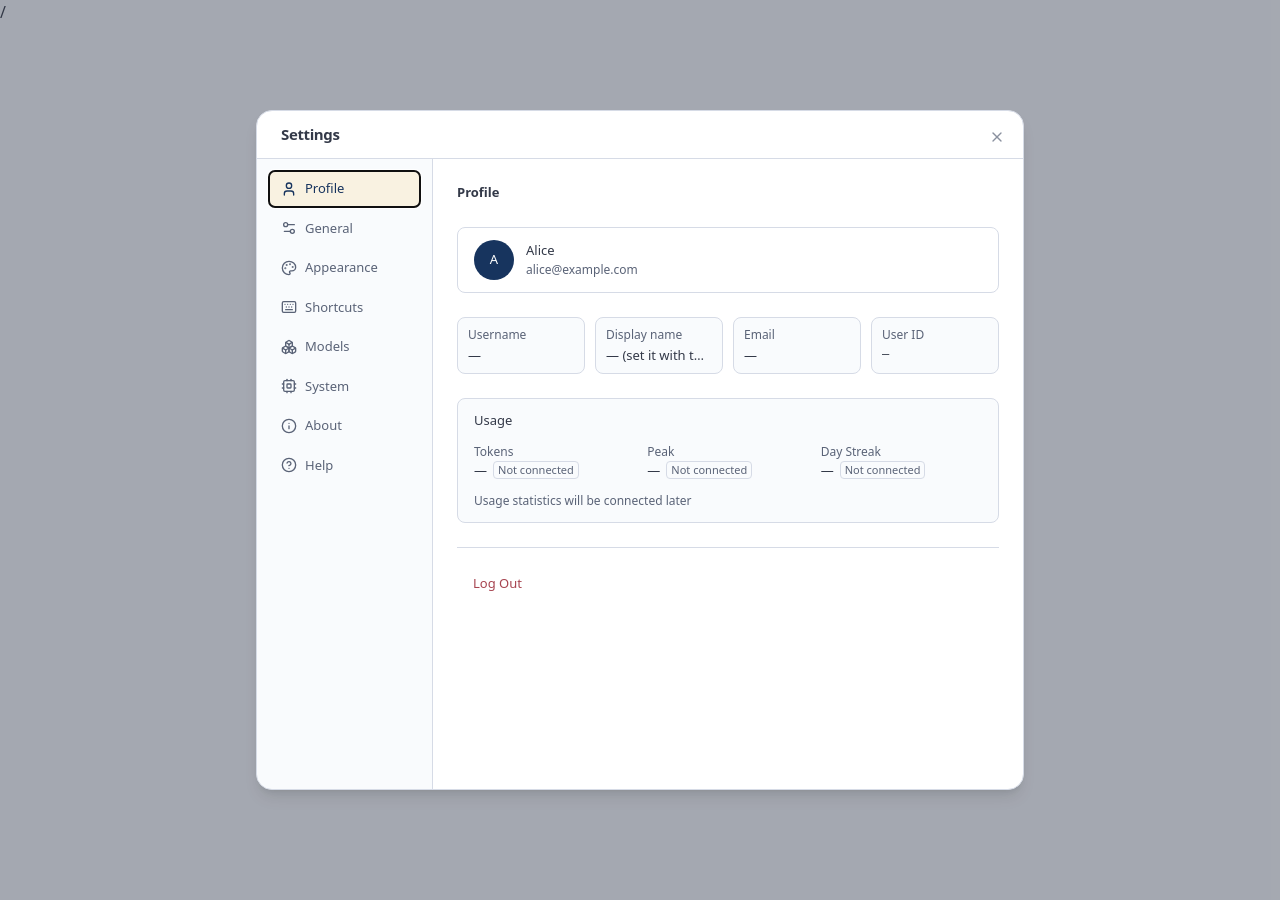
Scenario: SettingsDialog › B-07：点击「添加模型配置」→ 就地打开弹窗，路由不变
The image size is (1280, 900).
Click the button with test id "settings-dialog-nav-models": [344, 347] box x1=269 y1=329 x2=420 y2=364
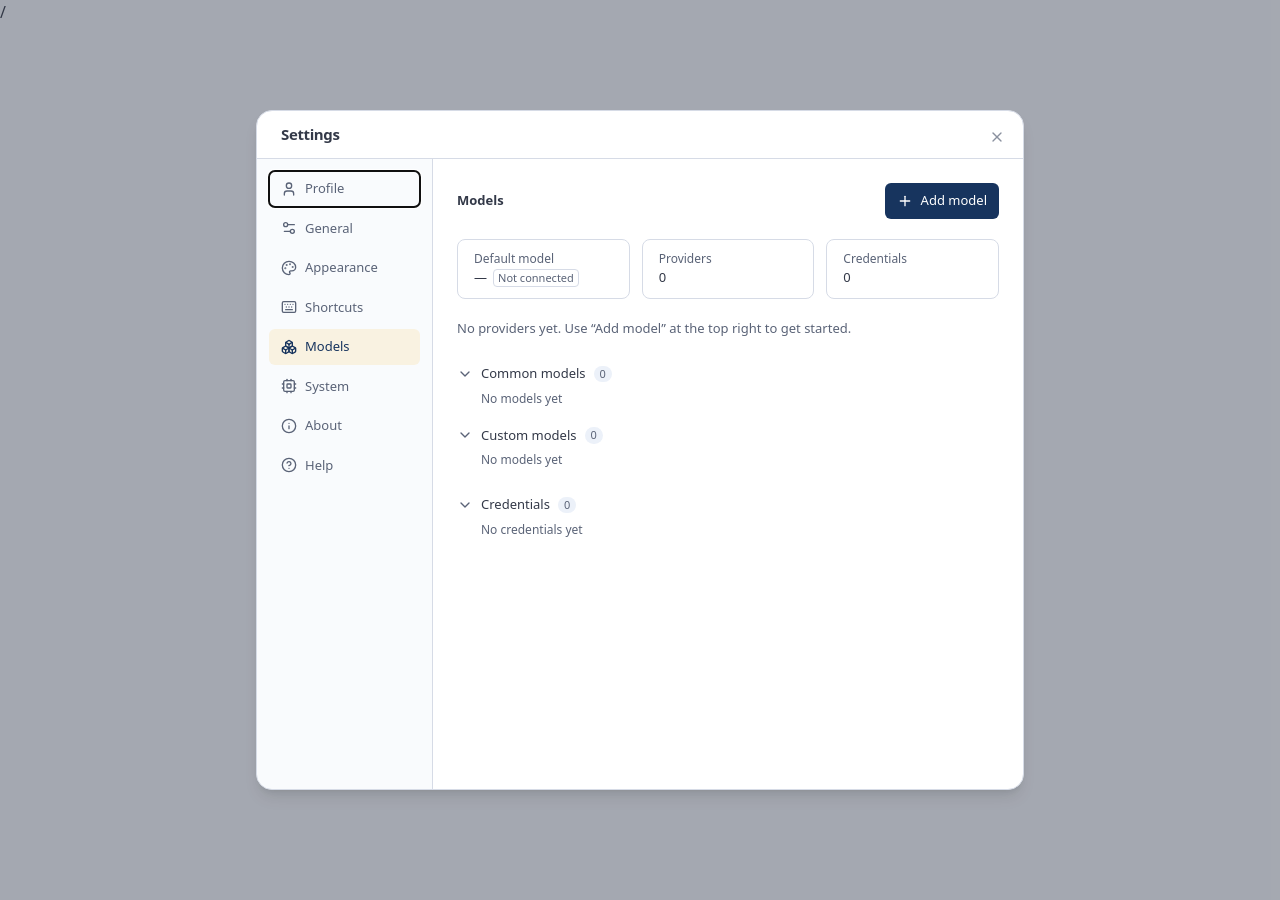
Expected: the text with test id "location-probe" reads "/", x1=0 y1=1 x2=6 y2=23
Click the button with test id "settings-models-add": [942, 201] box x1=885 y1=183 x2=999 y2=219
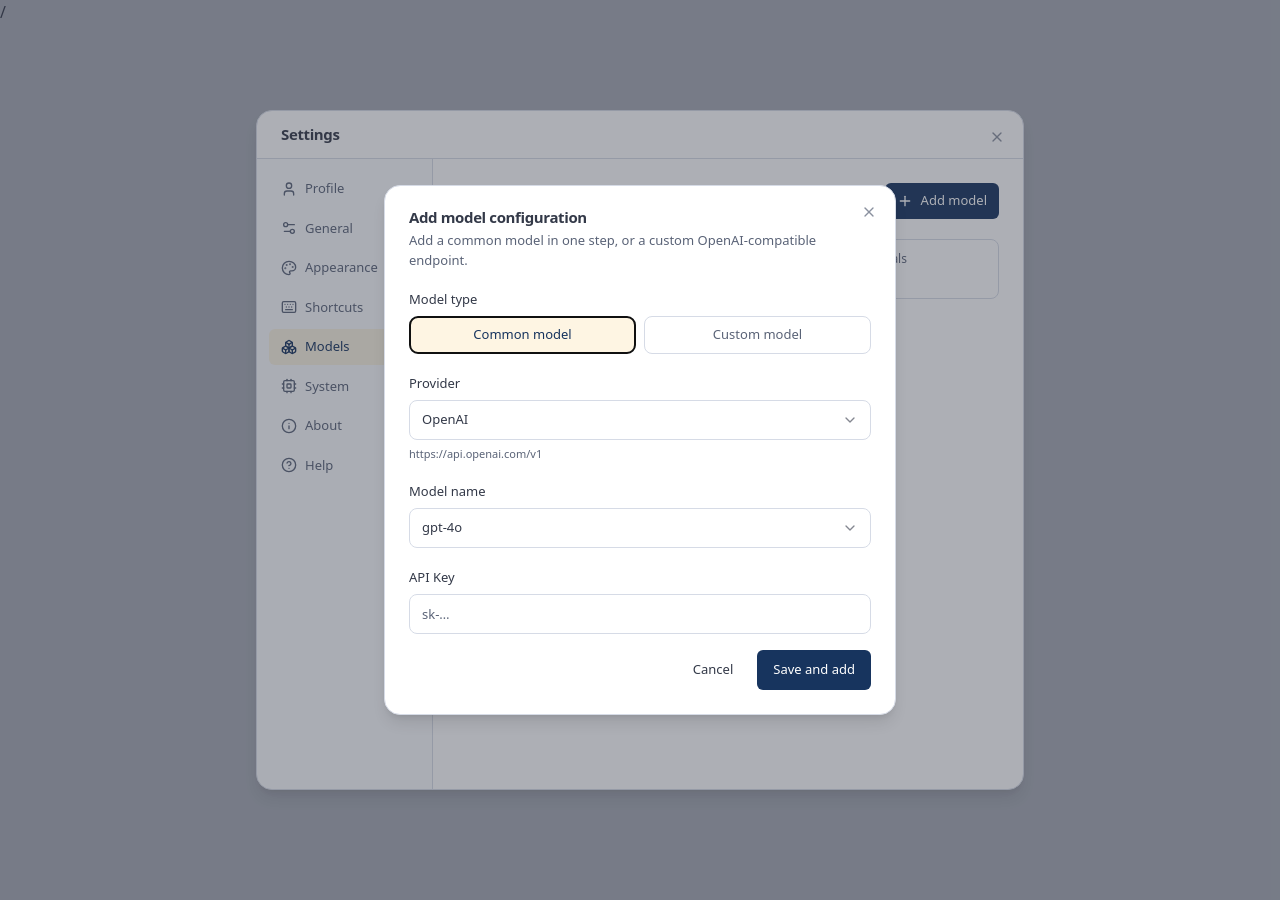
Expected: the dialog with test id "settings-dialog" is shown, x1=256 y1=110 x2=1024 y2=790
Result: the dialog with test id "add-model-config-dialog" is shown at x1=384 y1=185 x2=896 y2=715
